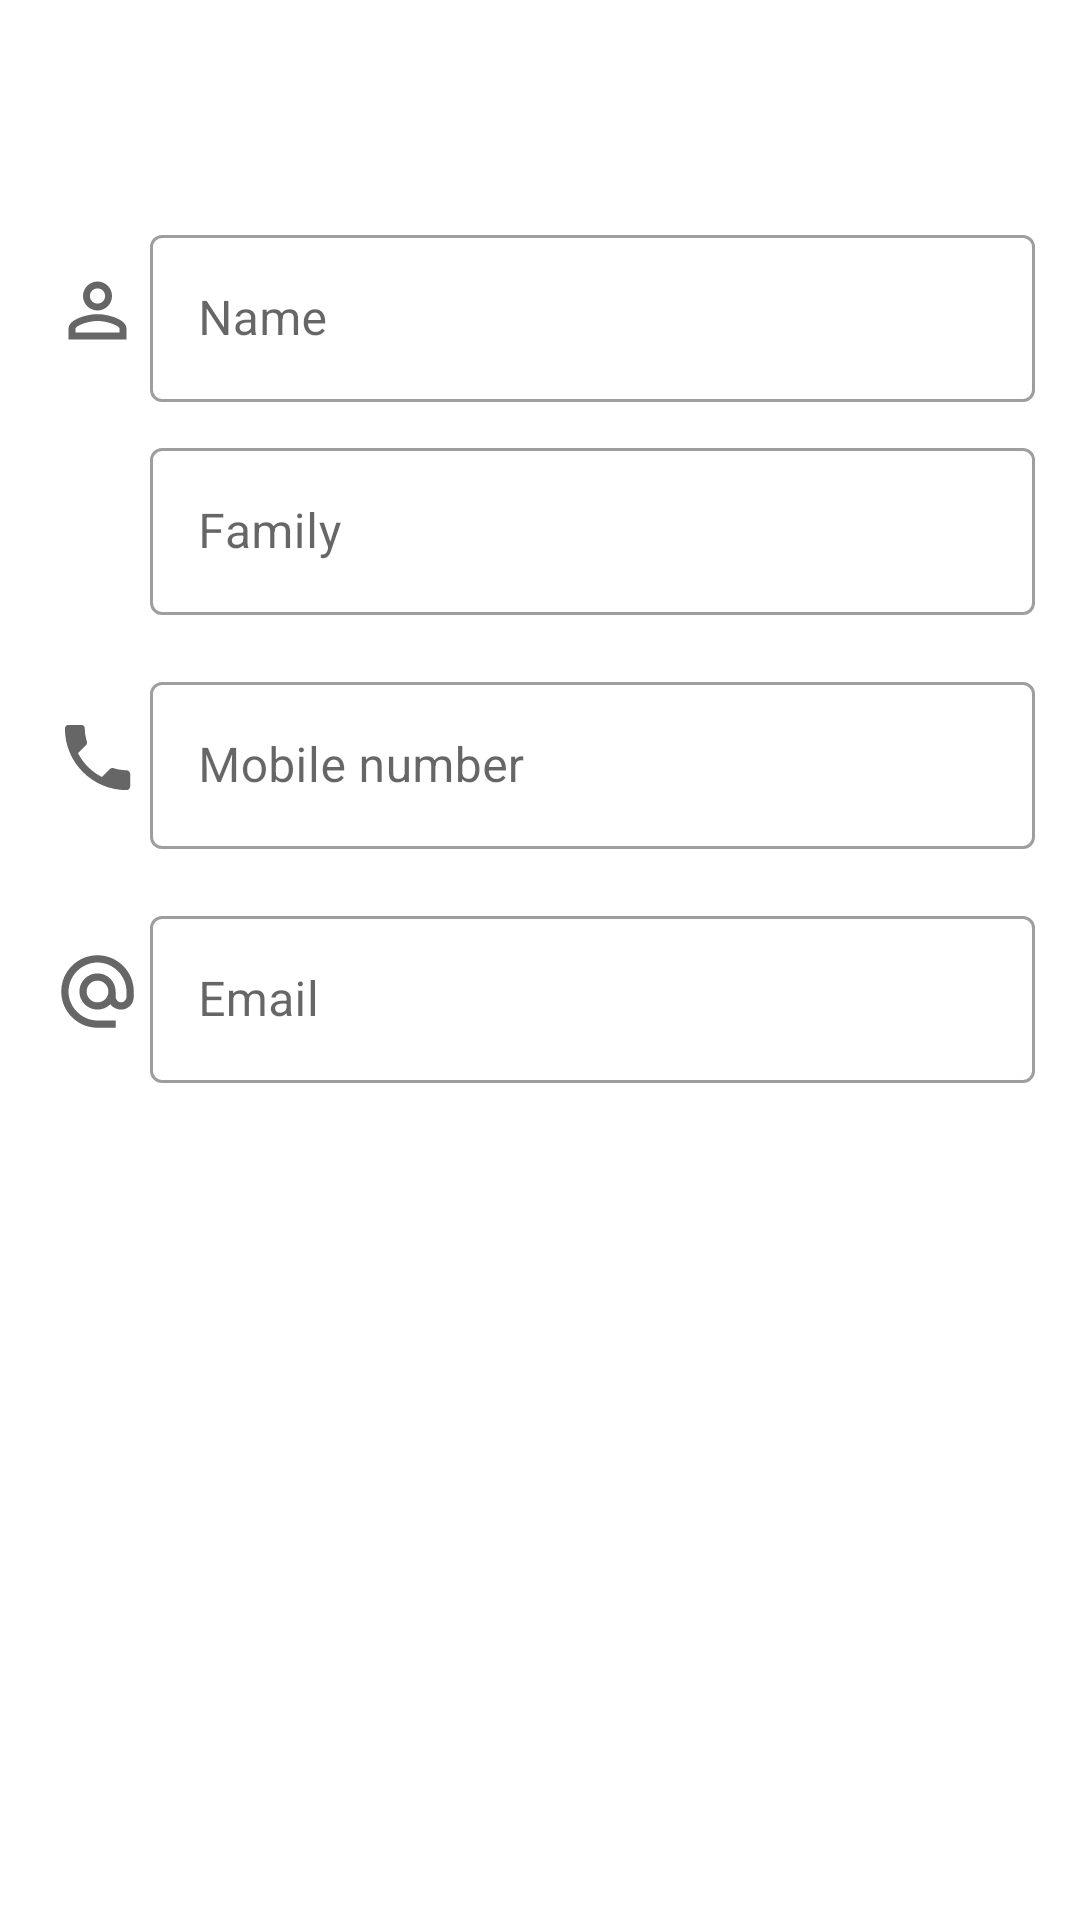

Screen size 1080px×1920px. Icon name, then its center in pixels as (x=x, y=y):
local phone: (x=98, y=757)
